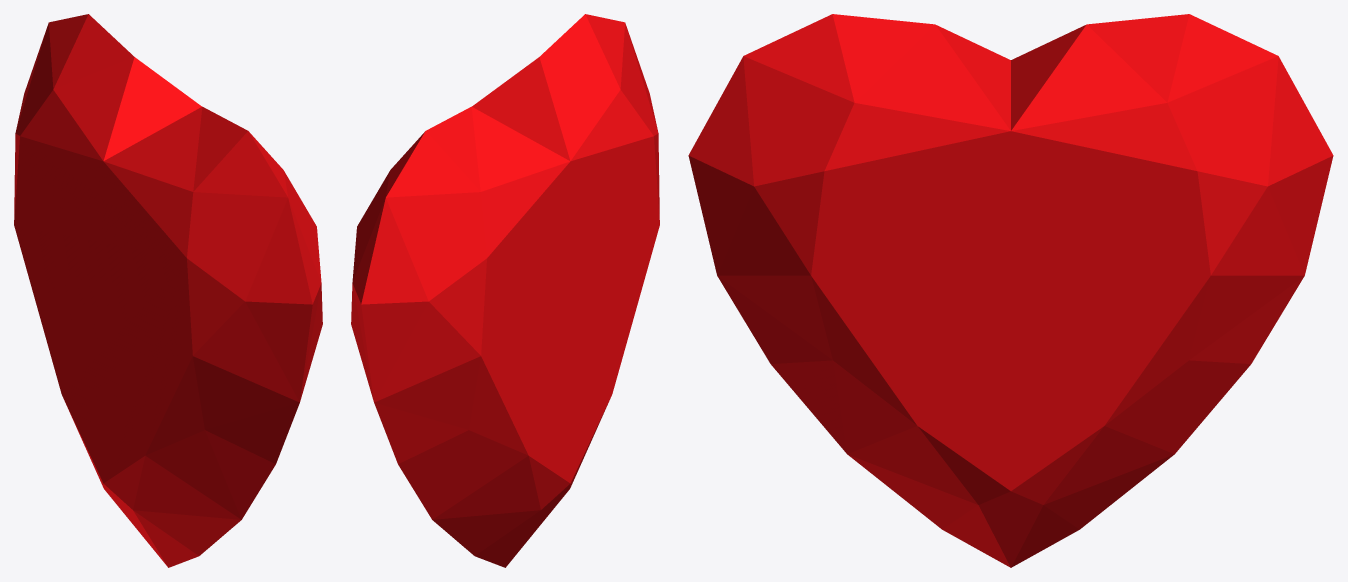
Rendered from heart.obj.
3 renders of one model, left to right at view 1: azimuth 30°, elevation 25°; view 2: azimuth 150°, elevation 25°; view 3: azimuth 270°, elevation 25°, orthographic. The views are drawn at different scales.
Visible parts, largest first — view 1: Plane; view 2: Plane; view 3: Plane.
Boxes of the visible parts, left/top/right/bottom form: Plane: left=14, top=14, right=322, bottom=567; Plane: left=351, top=14, right=659, bottom=567; Plane: left=688, top=14, right=1333, bottom=567.
Bounding box in the file's own units: 1.15 × 4.17 × 4.4.
Materials: 1 (1 with a texture image).
